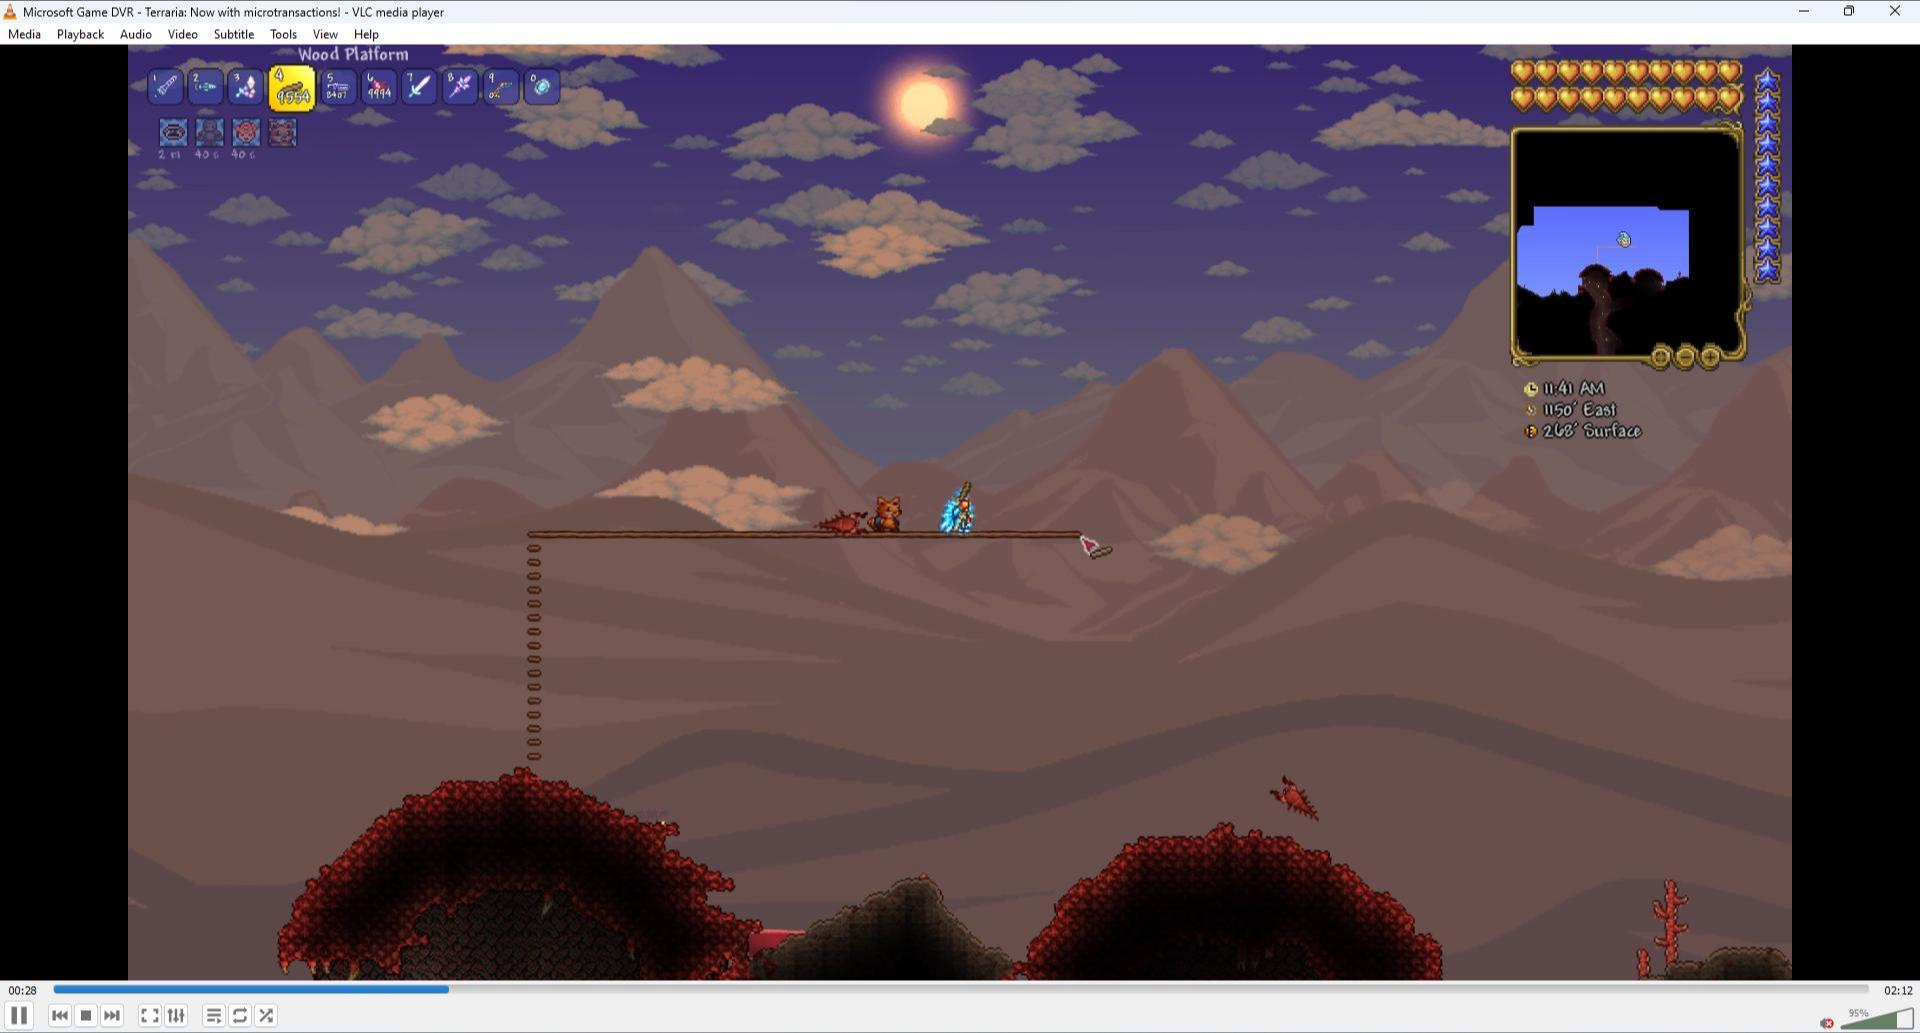crimera: (807, 495, 871, 543)
